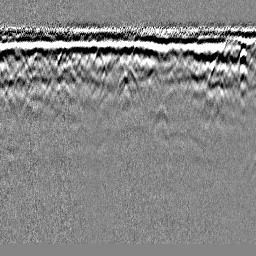cavity: (112, 64, 143, 102)
